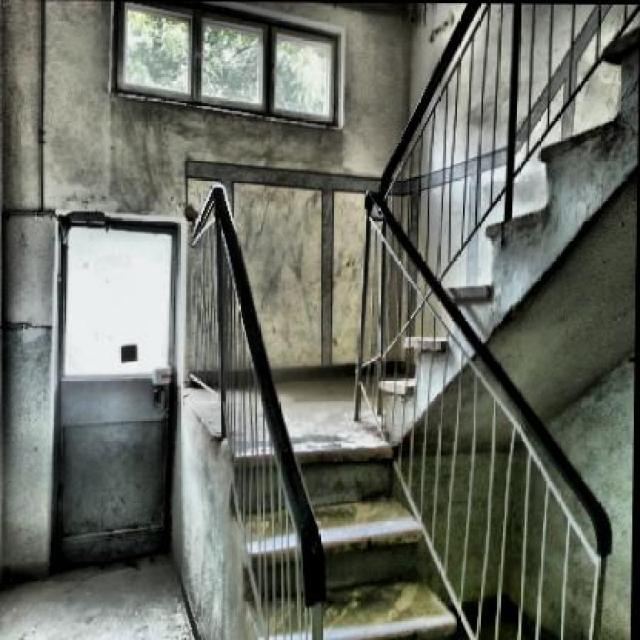stair: (236, 414, 470, 638)
